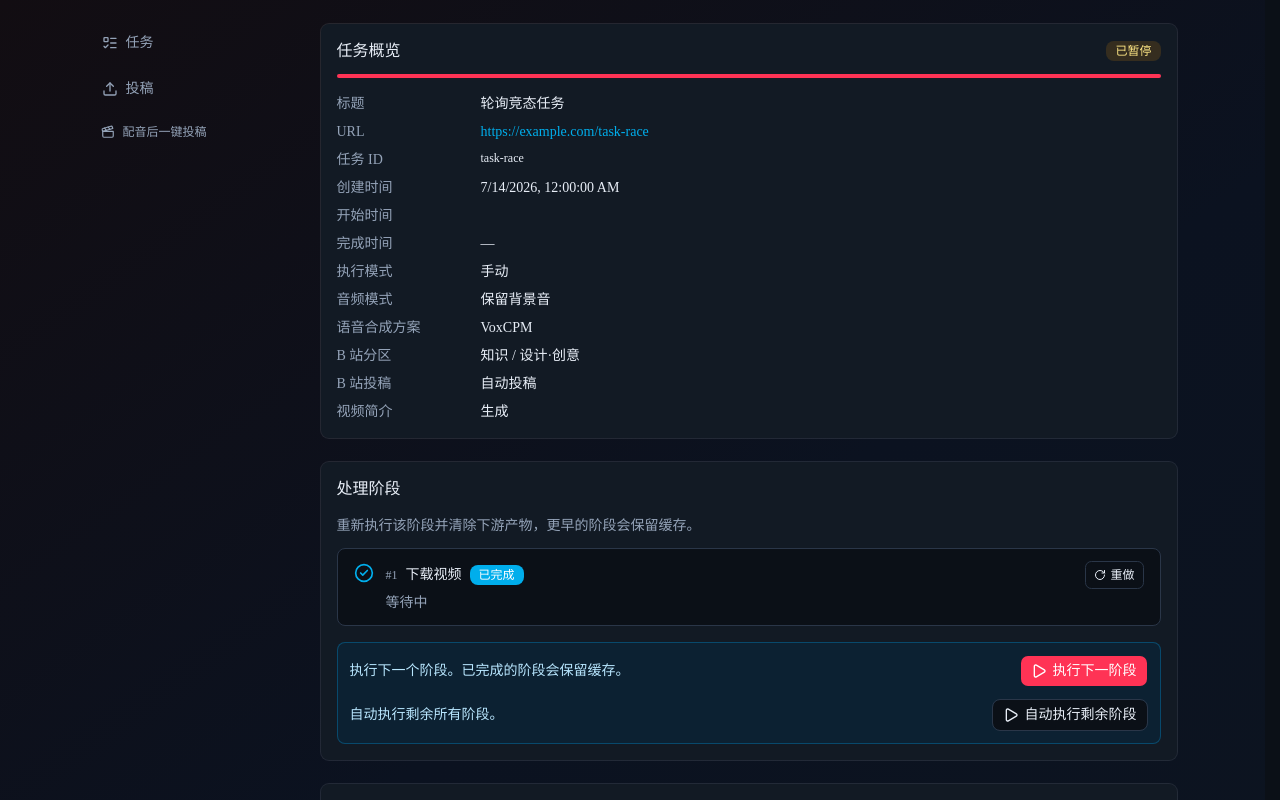
Test: 任务详情轮询 › continue 返回新状态后不会被动作前的迟到轮询覆盖
Step 1. Click the button "执行下一阶段" → x=1084, y=671, box [1020,655,1148,687]
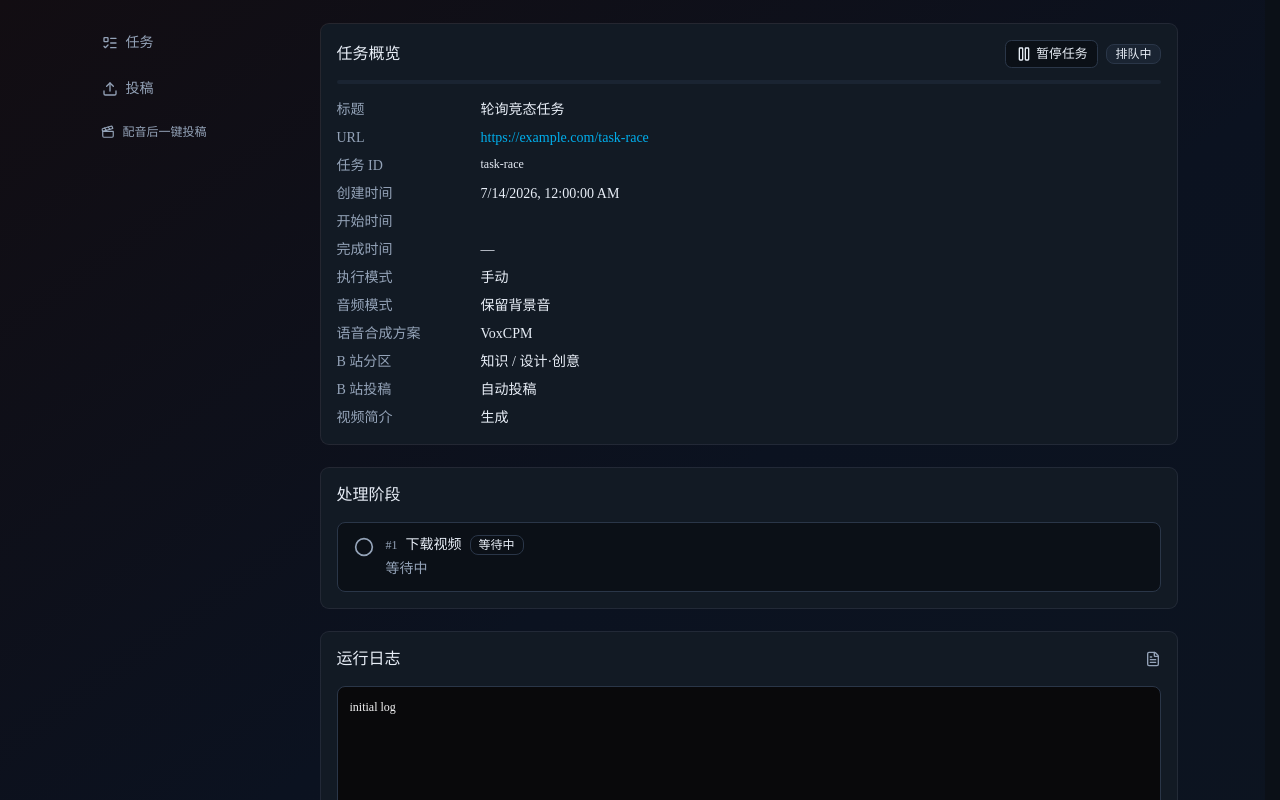
Now the icon "排队中" is shown, box [1106,44,1160,64]
Now the button "执行下一阶段" is gone
